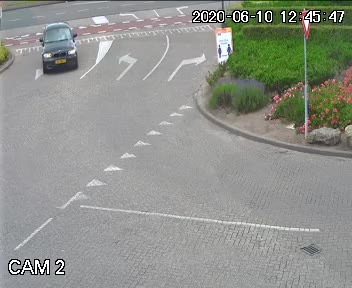car: (36, 19, 78, 72)
